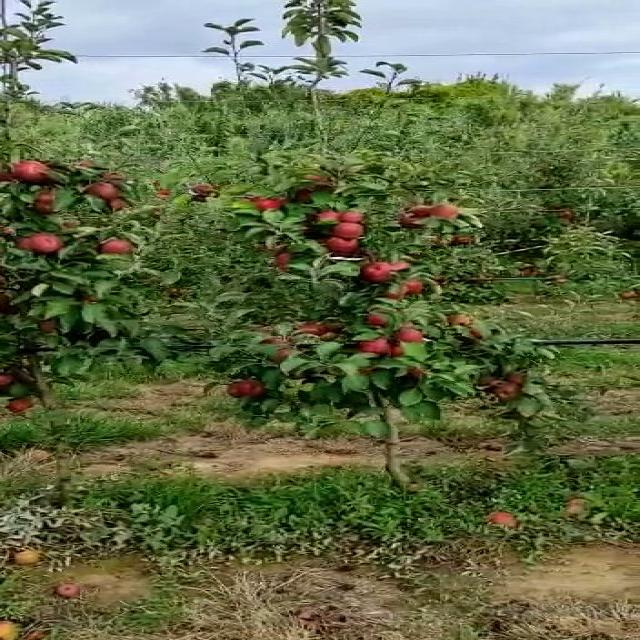100-_ripeness: (14, 156, 51, 185), (326, 238, 366, 257), (226, 381, 264, 400), (362, 264, 404, 281), (24, 232, 58, 252), (400, 215, 438, 232), (102, 240, 138, 257), (89, 181, 124, 198), (327, 222, 362, 238), (358, 335, 389, 353), (338, 210, 369, 224)
